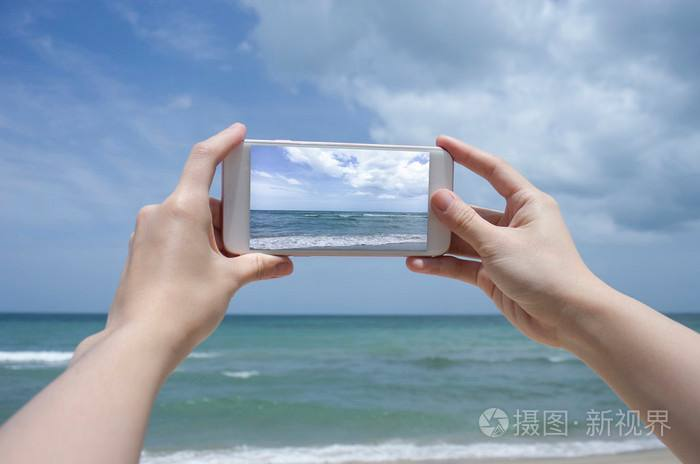taking photos: (108, 116, 604, 366)
